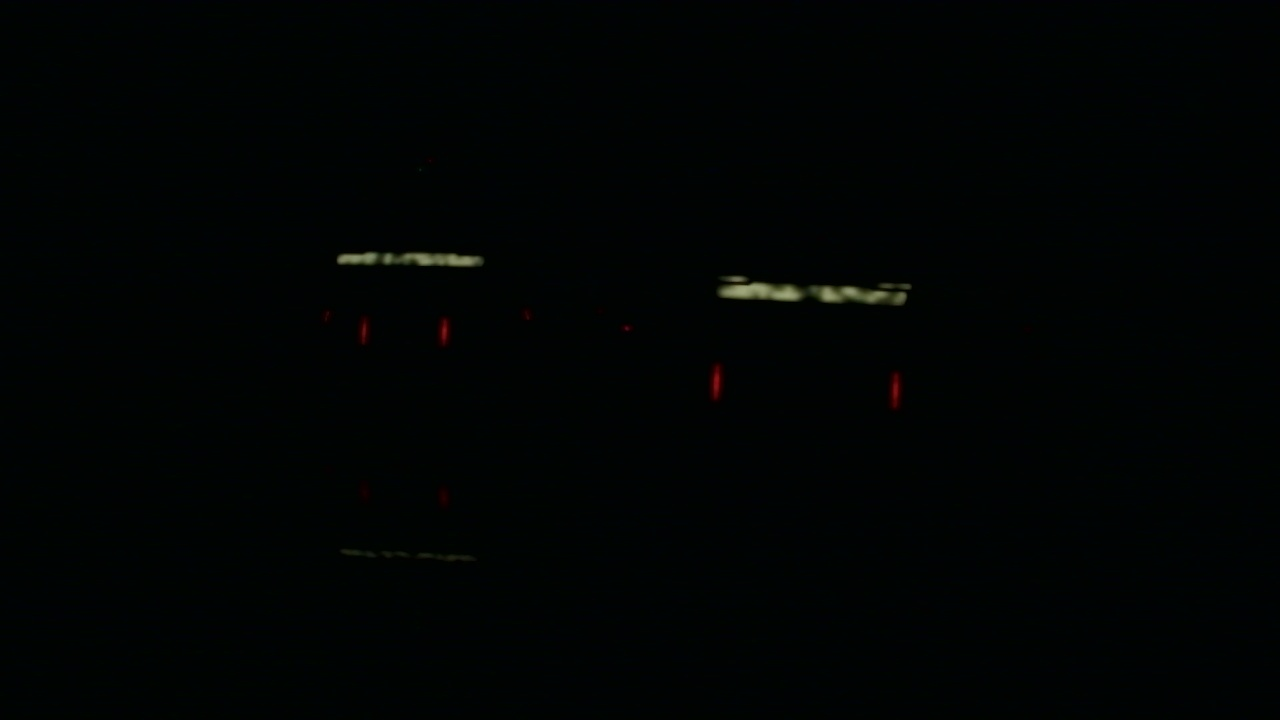lamp: (708, 358, 723, 401), (890, 363, 901, 407), (438, 315, 447, 345), (359, 316, 367, 344)
pair1: (360, 317, 447, 345)
pair2: (709, 360, 901, 413)
